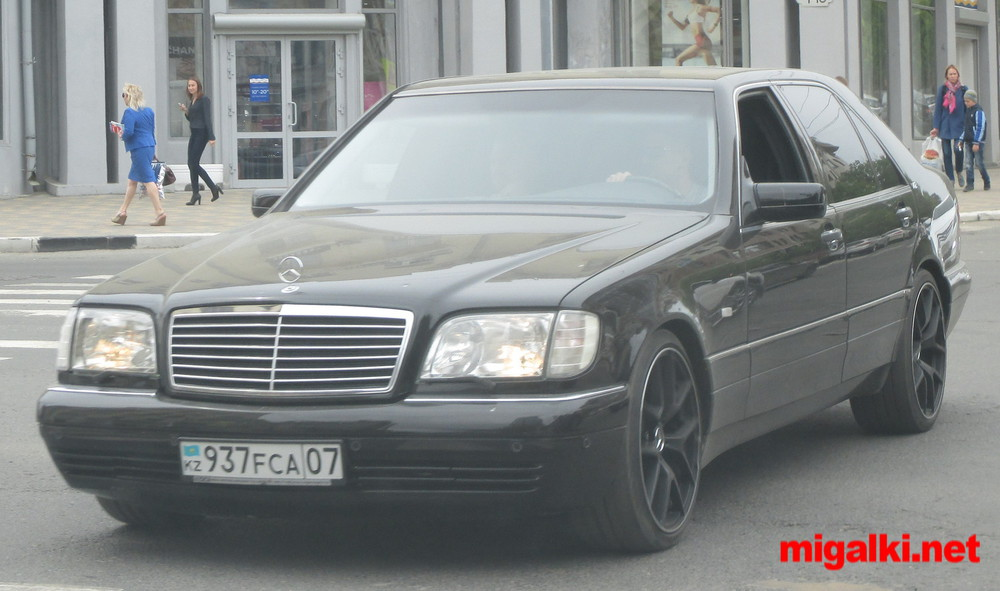license_plate: (180, 441, 344, 481)
